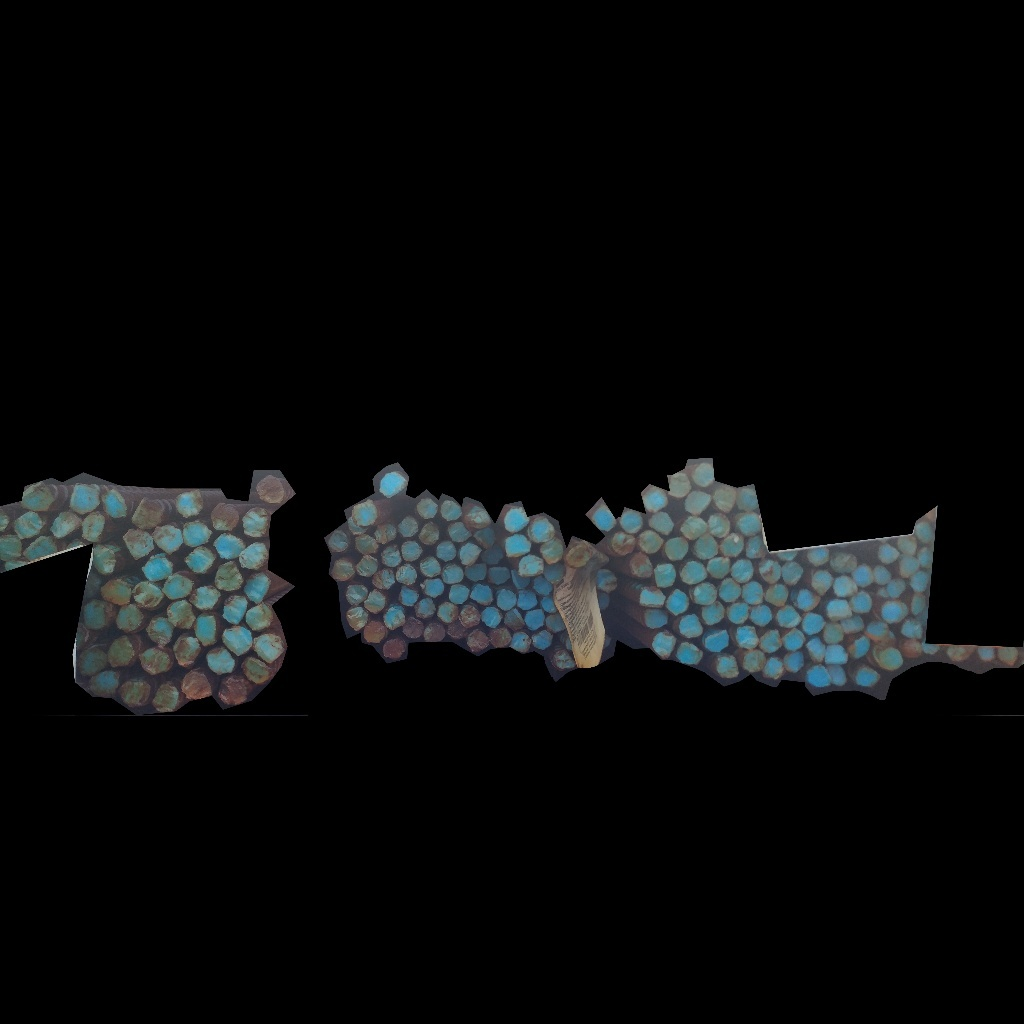dipstick: (180, 670, 212, 702), (21, 483, 54, 514), (68, 483, 102, 513), (253, 633, 284, 665), (123, 528, 154, 560), (221, 626, 252, 657), (240, 508, 270, 540), (80, 646, 108, 679), (107, 637, 136, 668), (150, 525, 183, 552), (242, 657, 272, 686), (218, 677, 247, 707), (12, 512, 43, 540), (161, 573, 194, 599), (212, 533, 246, 558), (238, 542, 267, 571), (174, 489, 203, 518), (115, 602, 143, 632), (193, 615, 220, 646), (139, 648, 170, 675), (101, 578, 132, 605), (141, 555, 174, 580), (351, 500, 379, 529), (211, 503, 239, 532), (214, 562, 243, 590), (132, 581, 162, 608), (184, 548, 215, 574), (131, 500, 163, 525), (255, 475, 283, 503), (118, 679, 145, 708), (101, 490, 128, 519), (221, 595, 247, 625), (174, 638, 200, 668), (24, 537, 56, 561), (379, 472, 408, 498), (206, 648, 235, 674), (50, 513, 80, 538), (246, 604, 273, 631), (146, 617, 174, 643), (183, 522, 212, 547), (92, 546, 117, 575), (504, 533, 531, 559), (167, 602, 193, 629), (245, 574, 270, 602), (152, 684, 177, 712), (91, 671, 116, 699), (83, 600, 107, 629), (188, 587, 219, 609), (642, 486, 668, 512), (79, 515, 105, 541), (462, 506, 491, 529), (775, 605, 801, 630), (680, 560, 706, 585), (680, 516, 707, 540), (504, 506, 528, 533), (652, 632, 677, 657), (649, 510, 674, 535), (539, 537, 563, 563), (684, 492, 711, 515), (666, 588, 689, 615), (833, 574, 858, 598), (713, 488, 737, 513), (665, 537, 690, 561), (592, 505, 616, 530), (594, 569, 618, 594), (825, 598, 851, 621), (721, 531, 744, 557), (693, 535, 719, 558), (811, 569, 833, 596), (830, 552, 858, 573), (529, 520, 554, 543), (519, 555, 544, 578), (458, 542, 481, 567), (344, 583, 367, 608), (637, 531, 663, 553), (676, 643, 703, 664), (880, 646, 903, 670), (782, 628, 806, 651), (759, 629, 782, 653), (730, 559, 754, 582), (707, 556, 731, 579), (613, 532, 637, 555), (466, 629, 489, 653), (363, 590, 387, 613), (881, 602, 906, 624), (854, 665, 879, 687), (737, 512, 762, 534), (653, 562, 675, 587), (668, 473, 690, 498), (620, 509, 642, 534), (630, 555, 652, 580), (346, 606, 368, 631), (693, 462, 714, 488), (947, 644, 977, 662), (780, 561, 803, 584), (758, 560, 781, 583), (742, 650, 765, 673), (702, 602, 725, 625), (396, 515, 419, 538), (364, 621, 387, 644), (901, 617, 923, 641), (826, 662, 848, 686), (764, 584, 788, 606), (736, 625, 758, 649), (745, 534, 767, 558), (708, 513, 730, 537), (644, 607, 668, 629), (458, 605, 480, 629), (355, 555, 379, 577), (640, 587, 666, 607), (822, 621, 845, 643), (801, 613, 824, 635), (749, 603, 771, 626), (741, 580, 763, 603), (717, 578, 739, 601), (680, 614, 703, 636), (440, 499, 462, 522), (383, 607, 406, 629), (327, 530, 350, 552), (332, 558, 354, 581), (824, 644, 848, 665), (796, 589, 820, 610), (705, 631, 729, 652), (419, 522, 440, 546), (470, 584, 494, 605), (420, 578, 444, 599), (805, 667, 830, 687), (380, 638, 405, 658), (896, 555, 918, 577), (737, 489, 759, 511), (727, 602, 749, 624), (517, 590, 539, 612), (397, 585, 419, 607), (849, 592, 872, 613), (784, 650, 805, 673), (717, 655, 738, 678), (449, 522, 472, 543), (442, 563, 465, 584), (371, 568, 394, 589), (840, 615, 864, 635), (399, 540, 423, 560), (353, 533, 377, 553), (852, 565, 873, 587), (847, 636, 869, 657), (807, 546, 829, 567), (762, 658, 784, 679), (496, 589, 517, 611), (416, 498, 438, 519), (419, 556, 441, 577), (1, 536, 22, 558), (511, 630, 531, 653), (503, 607, 523, 630), (487, 565, 510, 585), (807, 637, 824, 664), (488, 629, 513, 647), (435, 541, 456, 562), (395, 564, 416, 585), (543, 562, 565, 582), (524, 610, 546, 630), (553, 651, 575, 671), (424, 623, 446, 643), (867, 620, 890, 639), (915, 520, 933, 544), (532, 630, 553, 650), (481, 607, 502, 627), (374, 523, 395, 543), (877, 544, 899, 563), (482, 545, 504, 564), (448, 585, 470, 604), (403, 616, 422, 638), (897, 640, 920, 658), (887, 578, 907, 598), (414, 599, 435, 618), (438, 602, 457, 623), (473, 527, 493, 546), (446, 621, 466, 640), (379, 547, 400, 565), (910, 593, 927, 615), (465, 564, 487, 581), (999, 647, 1018, 666), (873, 565, 893, 583), (918, 546, 935, 567), (909, 572, 927, 591), (897, 536, 917, 553), (510, 569, 530, 586), (546, 614, 565, 631), (347, 516, 366, 533), (539, 595, 557, 612), (921, 640, 940, 656), (533, 577, 552, 593), (975, 646, 995, 661), (777, 549, 798, 562), (596, 591, 608, 608)
